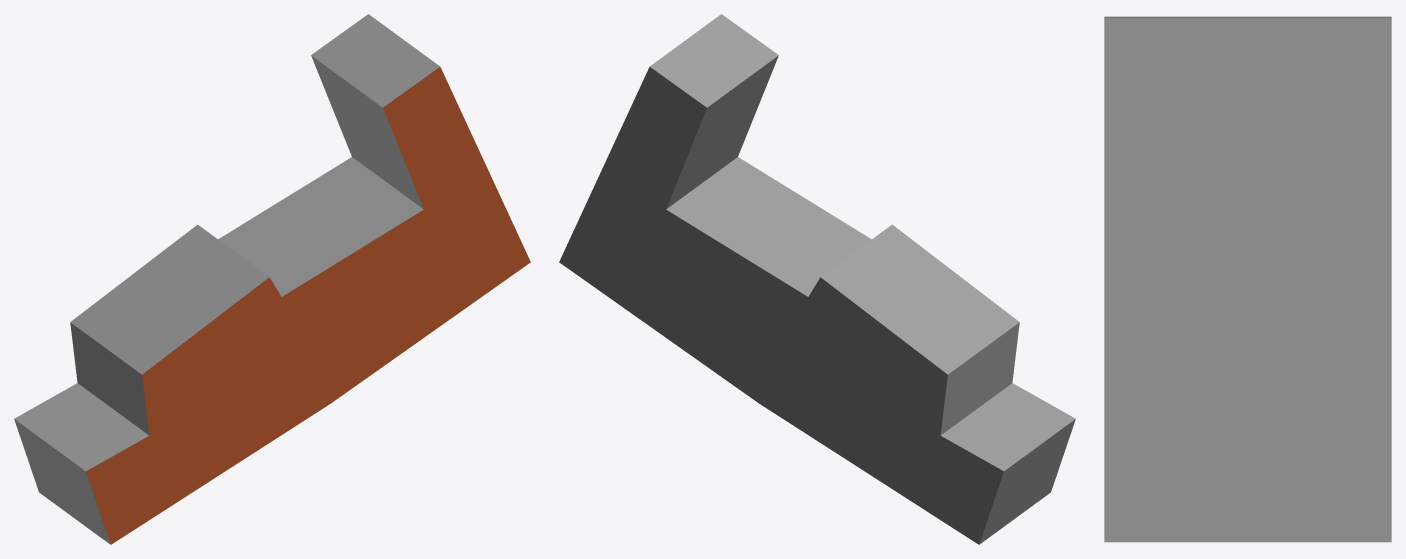
The model's file is construction_5654_assumed_A_Casa_h6m.obj.
3 renders of one model, left to right at view 1: azimuth 30°, elevation 25°; view 2: azimuth 150°, elevation 25°; view 3: azimuth 270°, elevation 25°, orthographic. The views are drawn at different scales.
Parts seen in each view (by area): view 1: construction_5654_assumed_A_Casa; view 2: construction_5654_assumed_A_Casa; view 3: construction_5654_assumed_A_Casa.
Boxes of the visible parts, x1=… form: construction_5654_assumed_A_Casa: x1=14, y1=14, x2=530, y2=544; construction_5654_assumed_A_Casa: x1=559, y1=14, x2=1075, y2=544; construction_5654_assumed_A_Casa: x1=1104, y1=16, x2=1391, y2=542.
Size of the model in its own units: 21.45 by 18.33 by 6.
